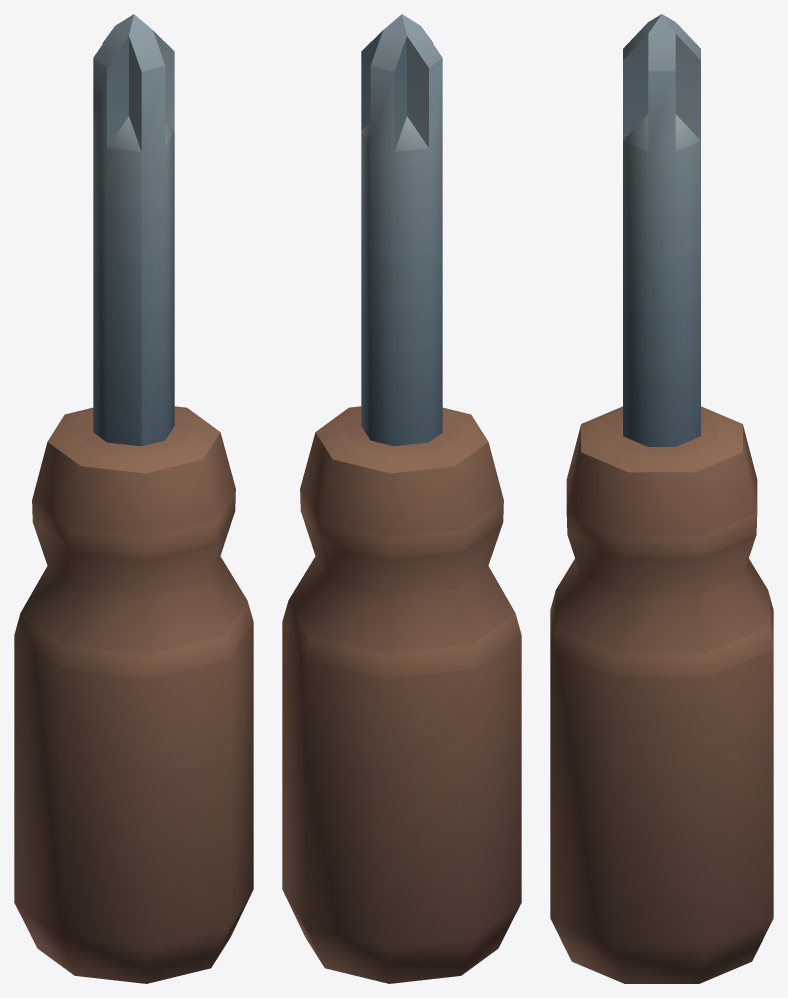
Rendered from screwdriver_b_short.glb.
3 renders of one model, left to right at view 1: azimuth 30°, elevation 25°; view 2: azimuth 150°, elevation 25°; view 3: azimuth 270°, elevation 25°, orthographic.
Visible parts, largest first — view 1: screwdriver_B_short; view 2: screwdriver_B_short; view 3: screwdriver_B_short.
Part boxes in pixels (left/top/right/bottom): screwdriver_B_short: left=14, top=14, right=253, bottom=983; screwdriver_B_short: left=282, top=14, right=521, bottom=983; screwdriver_B_short: left=550, top=14, right=773, bottom=983.
Bounding box in the file's own units: 0.1513 × 0.7136 × 0.1513.
1 material, 1 textured.
